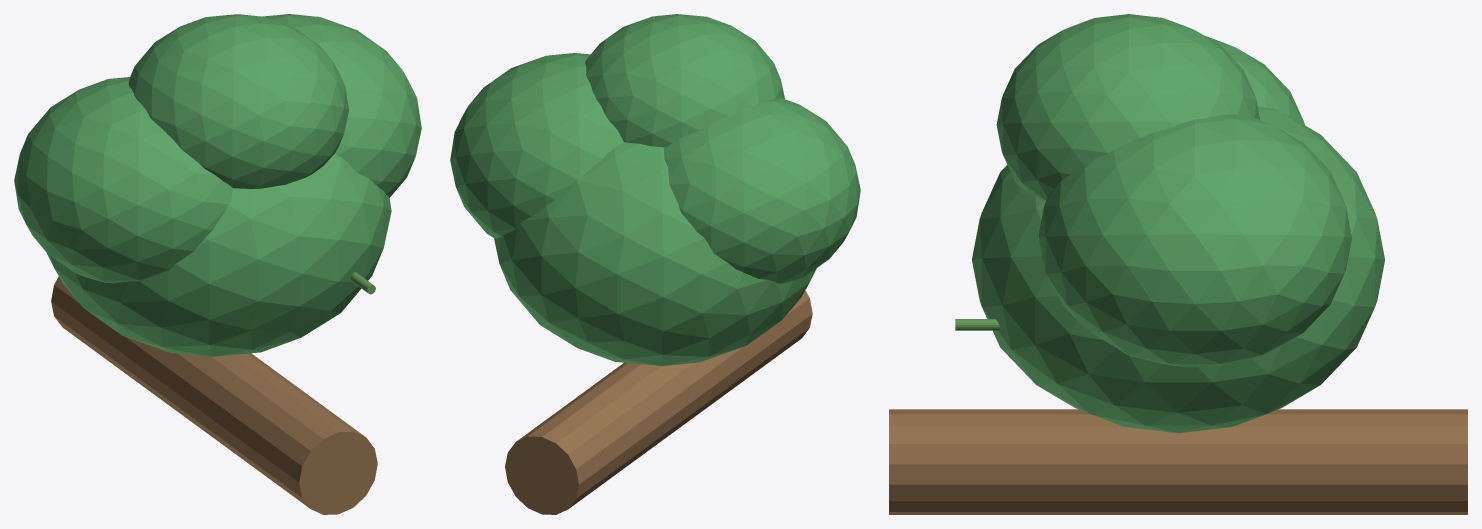
The model's file is jungle_tree.glb.
3 views of the same model, side by side, from view 1: azimuth 30°, elevation 25°; view 2: azimuth 150°, elevation 25°; view 3: azimuth 270°, elevation 25° (orthographic). The views are drawn at different scales.
Parts seen in each view (by area): view 1: canopy_0, canopy_1, canopy_3, trunk, canopy_2; view 2: canopy_0, canopy_1, trunk, canopy_2, canopy_3; view 3: canopy_2, trunk, canopy_0, canopy_3, canopy_1.
Boxes of the visible parts, x1,y1,x2,y2 form: canopy_0: (46,154,391,356); canopy_1: (14,77,233,283); canopy_3: (128,14,348,188); trunk: (51,276,377,514); canopy_2: (262,14,421,197); canopy_0: (494,142,816,365); canopy_1: (664,98,860,283); trunk: (505,290,812,514); canopy_2: (450,53,623,238); canopy_3: (585,14,784,147); canopy_2: (1039,114,1351,367); trunk: (889,409,1467,514); canopy_0: (972,106,1384,433); canopy_3: (996,14,1259,200); canopy_1: (1204,35,1304,124).
Size of the model in its own units: 3.15 by 3.21 by 3.5.
